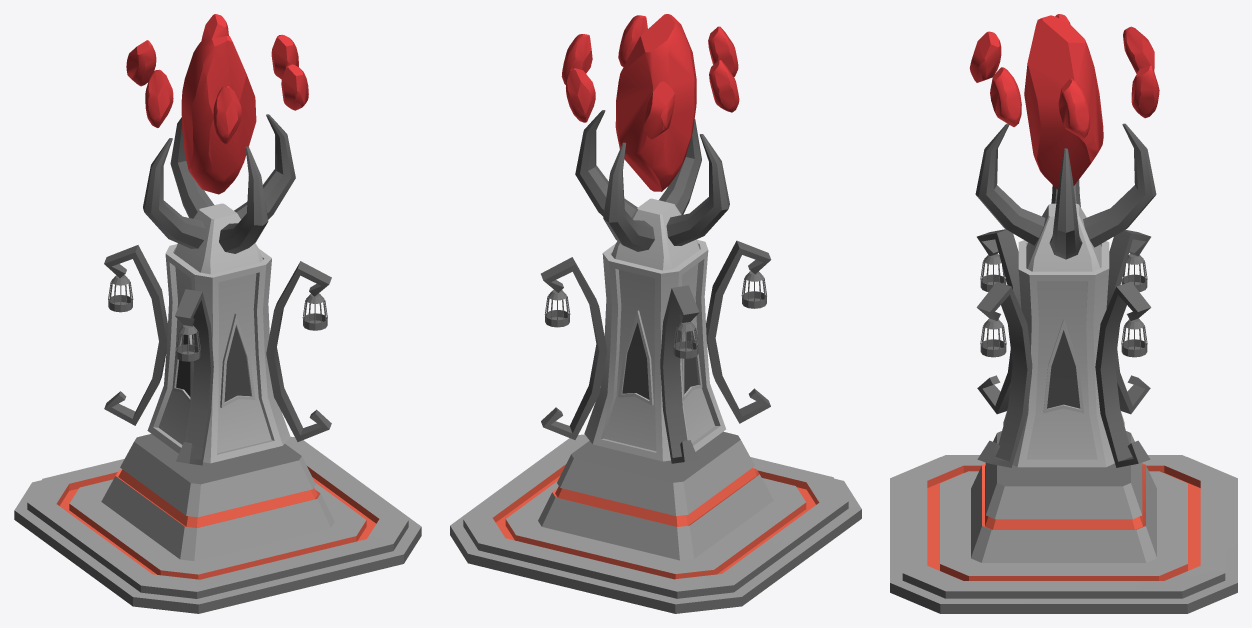
Rendered from Fire Tower Lv4.fbx.
3 views of the same model, side by side, from view 1: azimuth 30°, elevation 25°; view 2: azimuth 150°, elevation 25°; view 3: azimuth 270°, elevation 25° (orthographic). The views are drawn at different scales.
Visible parts, largest first — view 1: Fire Tower Lv4; view 2: Fire Tower Lv4; view 3: Fire Tower Lv4.
Part boxes in pixels (box(x1,y1,x2,y2)): Fire Tower Lv4: box(14, 14, 421, 613); Fire Tower Lv4: box(450, 14, 861, 613); Fire Tower Lv4: box(890, 14, 1237, 613).
Bounding box in the file's own units: 862 × 1426 × 862.
